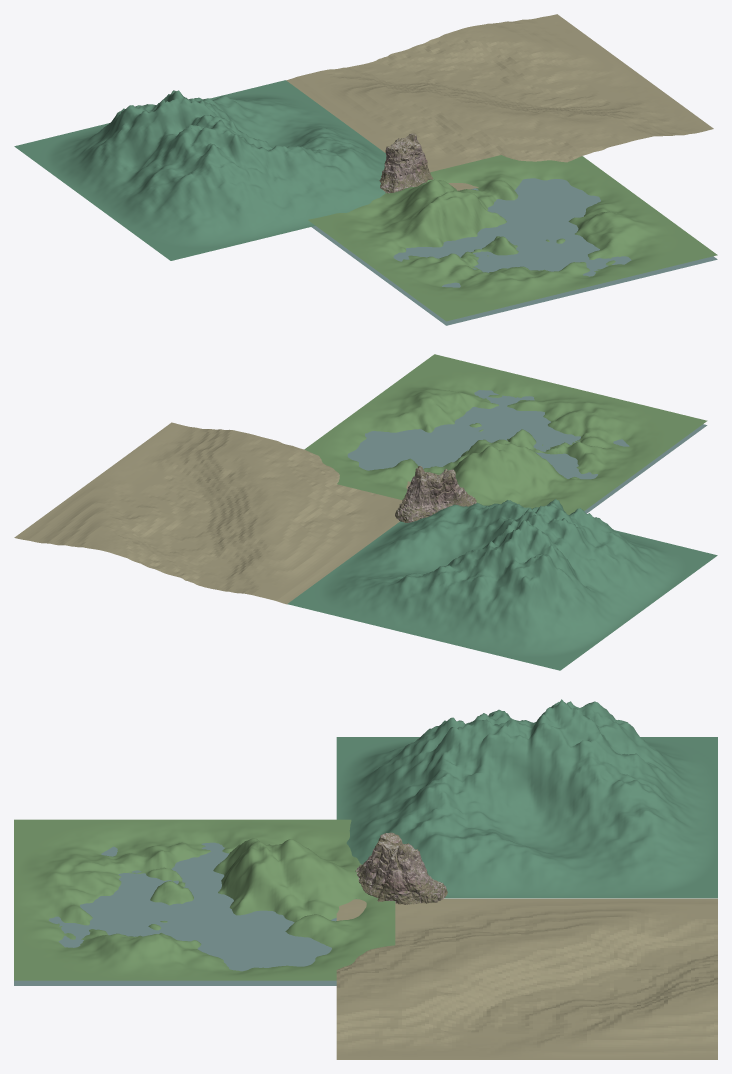
File: terrain_a.glb
3 renders of one model, top to bottom at view 1: azimuth 30°, elevation 25°; view 2: azimuth 150°, elevation 25°; view 3: azimuth 270°, elevation 25°, orthographic. The views are drawn at different scales.
Parts seen in each view (by area): view 1: Landscape.005, Landscape.003, Landscape.002, defaultMaterial; view 2: Landscape.003, Landscape.002, Landscape.005, defaultMaterial; view 3: Landscape.003, Landscape.002, Landscape.005, defaultMaterial.
Part boxes in pixels (<box>): Landscape.005: <box>308,155,717,325</box>; Landscape.003: <box>14,80,386,260</box>; Landscape.002: <box>286,14,713,190</box>; defaultMaterial: <box>379,133,433,193</box>; Landscape.003: <box>287,499,717,670</box>; Landscape.002: <box>14,422,410,604</box>; Landscape.005: <box>304,354,707,514</box>; defaultMaterial: <box>395,466,476,522</box>; Landscape.003: <box>336,699,717,898</box>; Landscape.002: <box>336,898,717,1059</box>; Landscape.005: <box>14,819,395,985</box>; defaultMaterial: <box>355,832,447,904</box>.
Size of what is drawn, in the model's own units: 1400 by 225 by 1292.
Materials: 5 (1 with a texture image).
